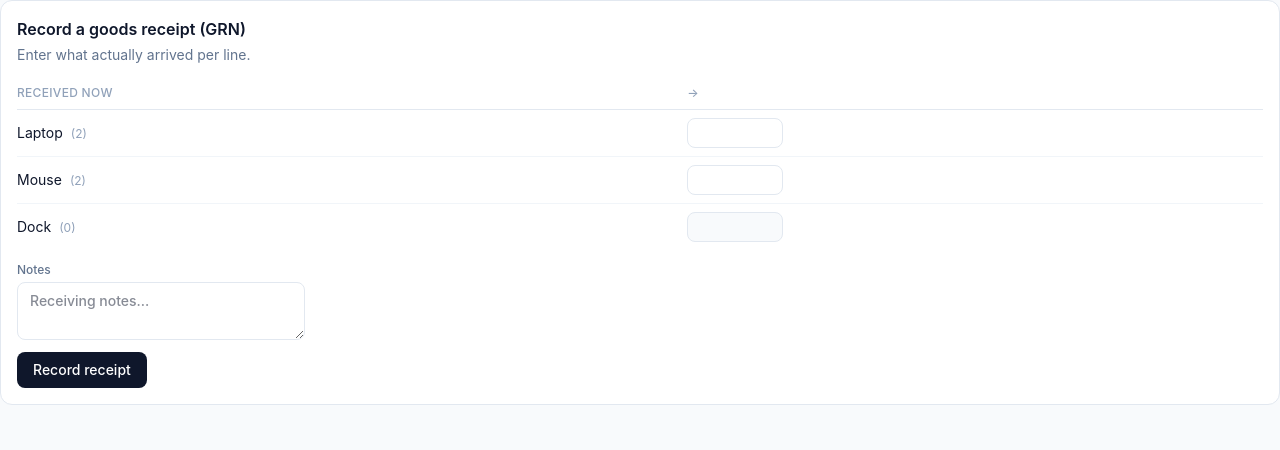
Test case: GoodsReceiptForm › maps other machine codes to localized messages (po_illegal_transition)
The image size is (1280, 450).
Type "1" into the number field with test id "grn-qty-it-1".
click(735, 133); type("1")  # box [687, 118, 783, 148]
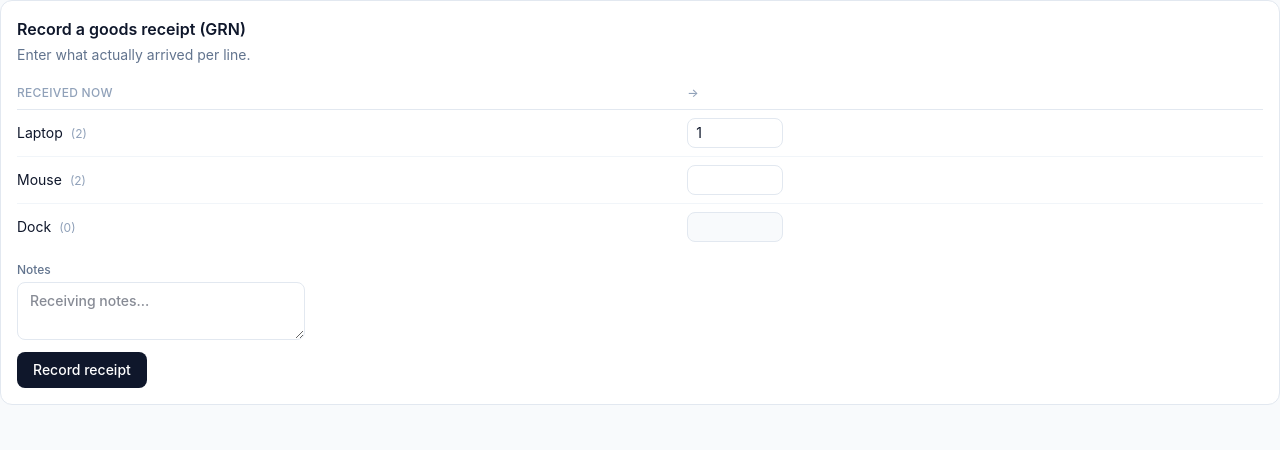
Click the button with test id "grn-submit".
click(82, 370)  # box [17, 352, 147, 388]
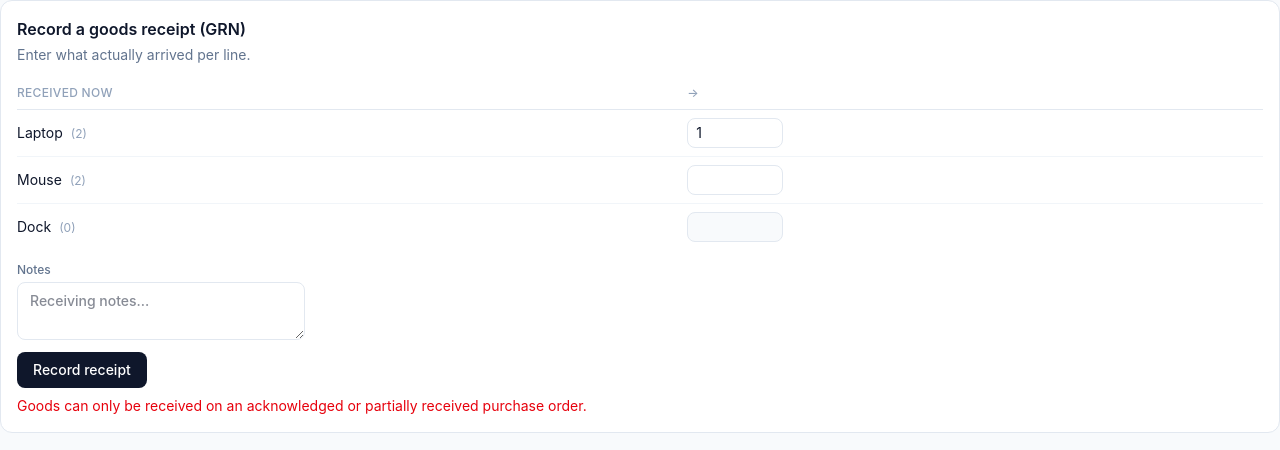
Expected: the message with test id "grn-form-error" shows "Goods can only be received on an acknowledged or partially received purchase order.", [17, 397, 587, 414]
